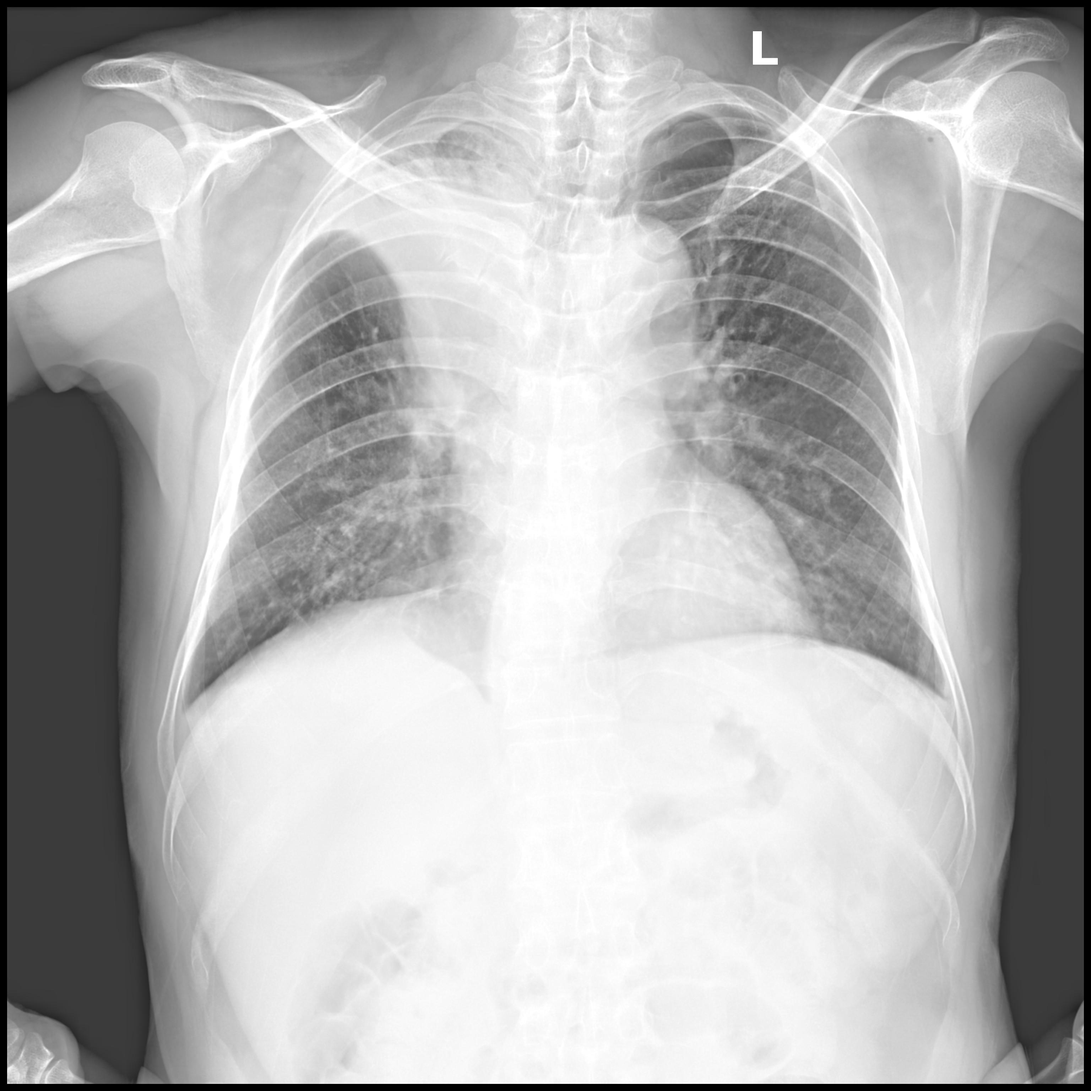Aortic enlargement: (581, 217, 694, 371)
Pleural thickening: (929, 667, 957, 719), (159, 699, 205, 726)
Pulmonary fibrosis: (731, 161, 816, 303)
